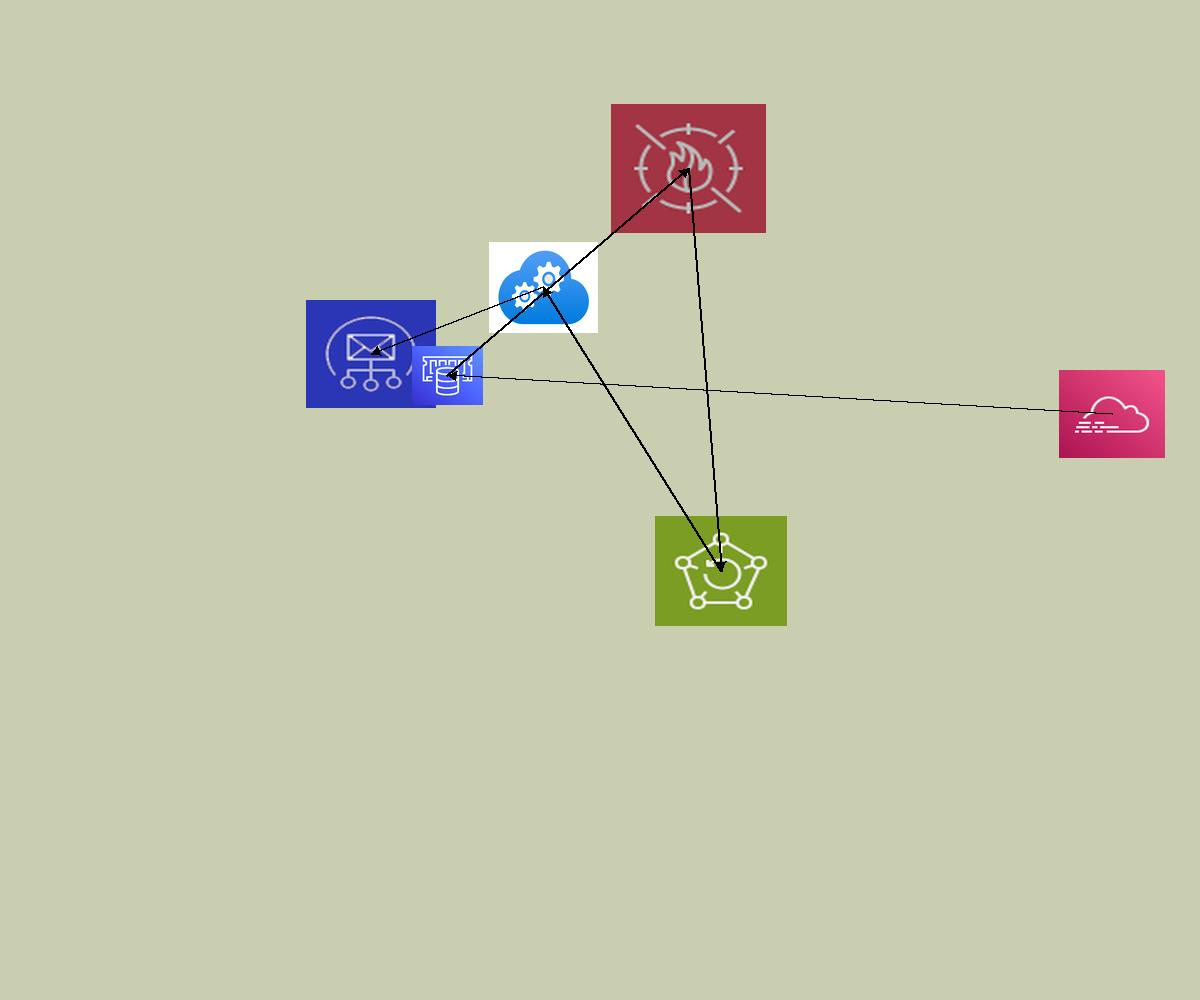AWS-Backup: (655, 516, 787, 626)
AWS-CloudTrail: (1059, 370, 1165, 458)
AWS-ElastiCache: (412, 346, 483, 405)
AWS-Simple-Email-Service: (306, 300, 436, 408)
AWS-WAF: (611, 104, 766, 233)
Azure_cloud_services: (489, 242, 598, 333)
